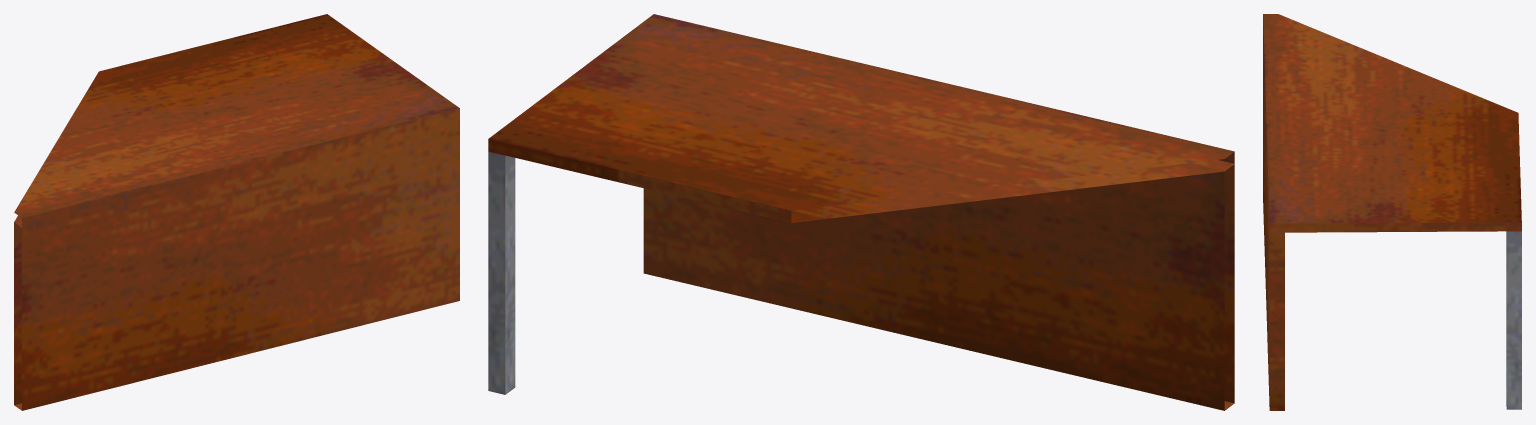
File: desk_corner_04.fbx
3 views of the same model, side by side, from view 1: azimuth 30°, elevation 25°; view 2: azimuth 150°, elevation 25°; view 3: azimuth 270°, elevation 25° (orthographic). The views are drawn at different scales.
Parts seen in each view (by area): view 1: polySurface12; view 2: polySurface12; view 3: polySurface12.
Boxes of the visible parts, bbox=[...] form: polySurface12: bbox=[14, 14, 459, 410]; polySurface12: bbox=[488, 14, 1234, 410]; polySurface12: bbox=[1263, 14, 1521, 410].
Bounding box in the file's own units: 213 × 89.11 × 111.
